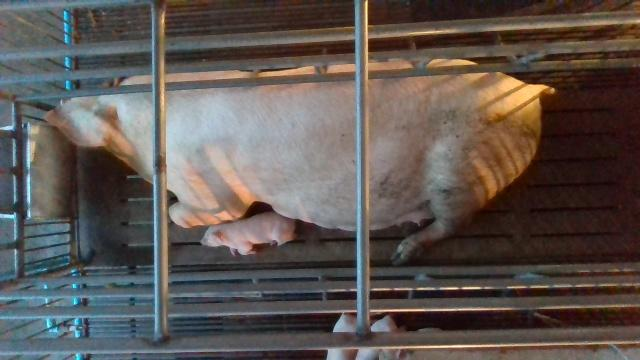piglet: (202, 211, 297, 256), (353, 315, 397, 360), (325, 313, 357, 360)
sow-sleep: (46, 60, 552, 265)
